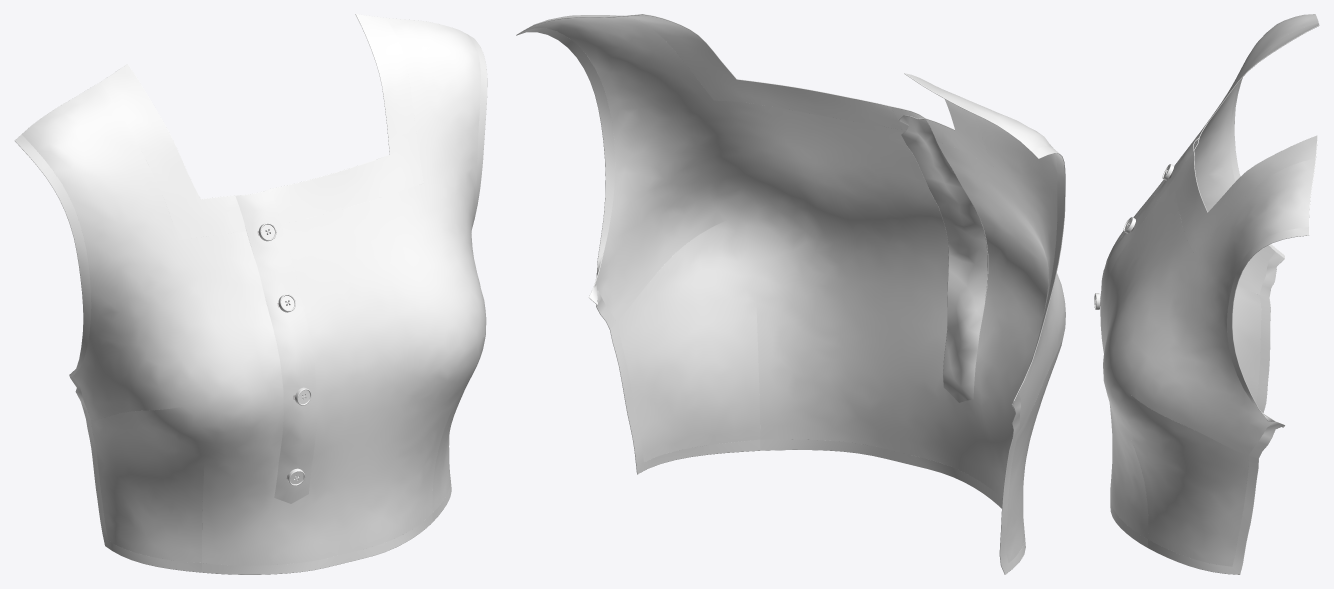
The model's file is Square_neckline_with_buttons.glb.
The picture shows the model from 3 angles, left to right: view 1: azimuth 30°, elevation 25°; view 2: azimuth 150°, elevation 25°; view 3: azimuth 270°, elevation 25°; orthographic projection. The views are drawn at different scales.
Visible parts, largest first — view 1: square_neckline_with_buttons_13_Node, square_neckline_with_buttons_10_Node, contrast_Node, contrast_1_Node, square_neckline_with_buttons_6_Node, square_neckline_with_buttons_12_Node, square_neckline_with_buttons_9_Node, square_neckline_with_buttons_7_Node; view 2: square_neckline_with_buttons_13_Node, square_neckline_with_buttons_2_Node, contrast_Node, square_neckline_with_buttons_7_Node, square_neckline_with_buttons_12_Node, square_neckline_with_buttons_8_Node, contrast_1_Node, square_neckline_with_buttons_6_Node, square_neckline_with_buttons_9_Node; view 3: square_neckline_with_buttons_13_Node, contrast_Node, square_neckline_with_buttons_8_Node, square_neckline_with_buttons_7_Node, square_neckline_with_buttons_10_Node, square_neckline_with_buttons_9_Node, contrast_1_Node, square_neckline_with_buttons_6_Node, square_neckline_with_buttons_1_Node, square_neckline_with_buttons_11_Node, square_neckline_with_buttons_12_Node.
Boxes of the visible parts, x1=… form: square_neckline_with_buttons_13_Node: x1=21, y1=17, x2=486, y2=565; square_neckline_with_buttons_10_Node: x1=235, y1=189, x2=316, y2=503; contrast_Node: x1=271, y1=14, x2=423, y2=224; contrast_1_Node: x1=100, y1=64, x2=246, y2=239; square_neckline_with_buttons_6_Node: x1=14, y1=134, x2=91, y2=377; square_neckline_with_buttons_12_Node: x1=202, y1=513, x2=432, y2=574; square_neckline_with_buttons_9_Node: x1=86, y1=419, x2=201, y2=572; square_neckline_with_buttons_7_Node: x1=469, y1=35, x2=487, y2=228; square_neckline_with_buttons_13_Node: x1=523, y1=15, x2=1065, y2=562; square_neckline_with_buttons_2_Node: x1=899, y1=115, x2=987, y2=402; contrast_Node: x1=611, y1=14, x2=902, y2=129; square_neckline_with_buttons_7_Node: x1=516, y1=28, x2=615, y2=305; square_neckline_with_buttons_12_Node: x1=760, y1=439, x2=1002, y2=508; square_neckline_with_buttons_8_Node: x1=610, y1=322, x2=760, y2=474; contrast_1_Node: x1=904, y1=73, x2=993, y2=167; square_neckline_with_buttons_6_Node: x1=1012, y1=146, x2=1065, y2=404; square_neckline_with_buttons_9_Node: x1=999, y1=432, x2=1025, y2=574; square_neckline_with_buttons_13_Node: x1=1102, y1=14, x2=1318, y2=566; contrast_Node: x1=1174, y1=135, x2=1317, y2=252; square_neckline_with_buttons_8_Node: x1=1148, y1=456, x2=1258, y2=574; square_neckline_with_buttons_7_Node: x1=1227, y1=227, x2=1309, y2=427; square_neckline_with_buttons_10_Node: x1=1100, y1=137, x2=1199, y2=346; square_neckline_with_buttons_9_Node: x1=1256, y1=295, x2=1270, y2=413; contrast_1_Node: x1=1180, y1=23, x2=1319, y2=160; square_neckline_with_buttons_6_Node: x1=1230, y1=77, x2=1284, y2=258; square_neckline_with_buttons_1_Node: x1=1259, y1=252, x2=1284, y2=297; square_neckline_with_buttons_11_Node: x1=1249, y1=421, x2=1284, y2=458; square_neckline_with_buttons_12_Node: x1=1110, y1=483, x2=1147, y2=547.
Bounding box in the file's own units: 37.48 × 34.9 × 16.82.
48 materials, 4 textured.
